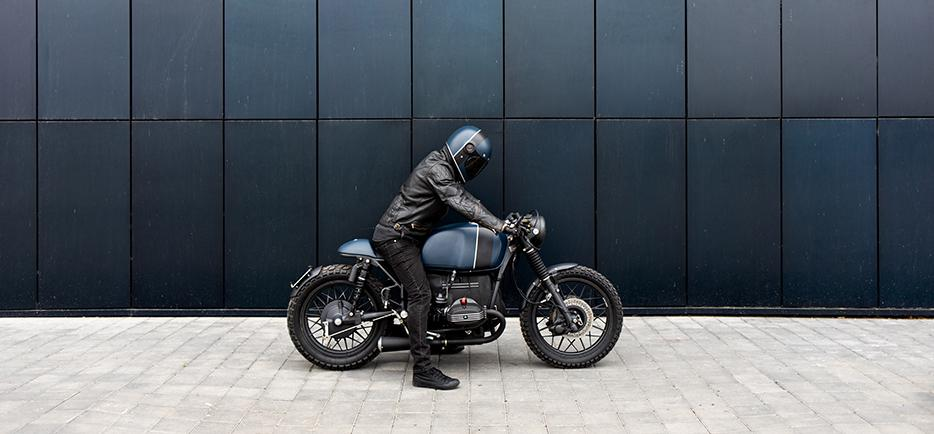with_helmet: (444, 123, 494, 182)
